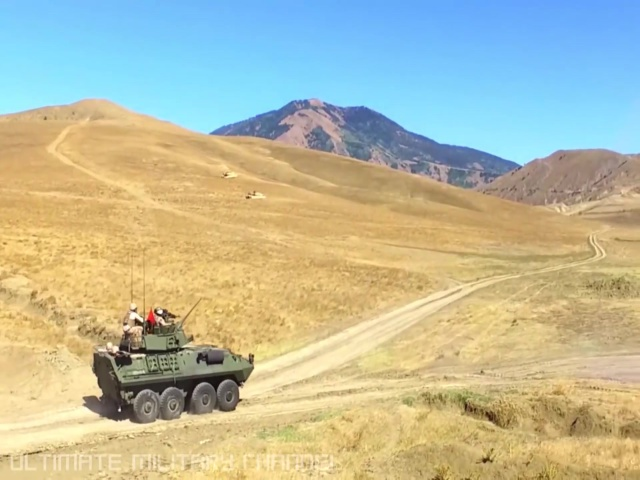vehicle: (91, 322, 253, 424)
